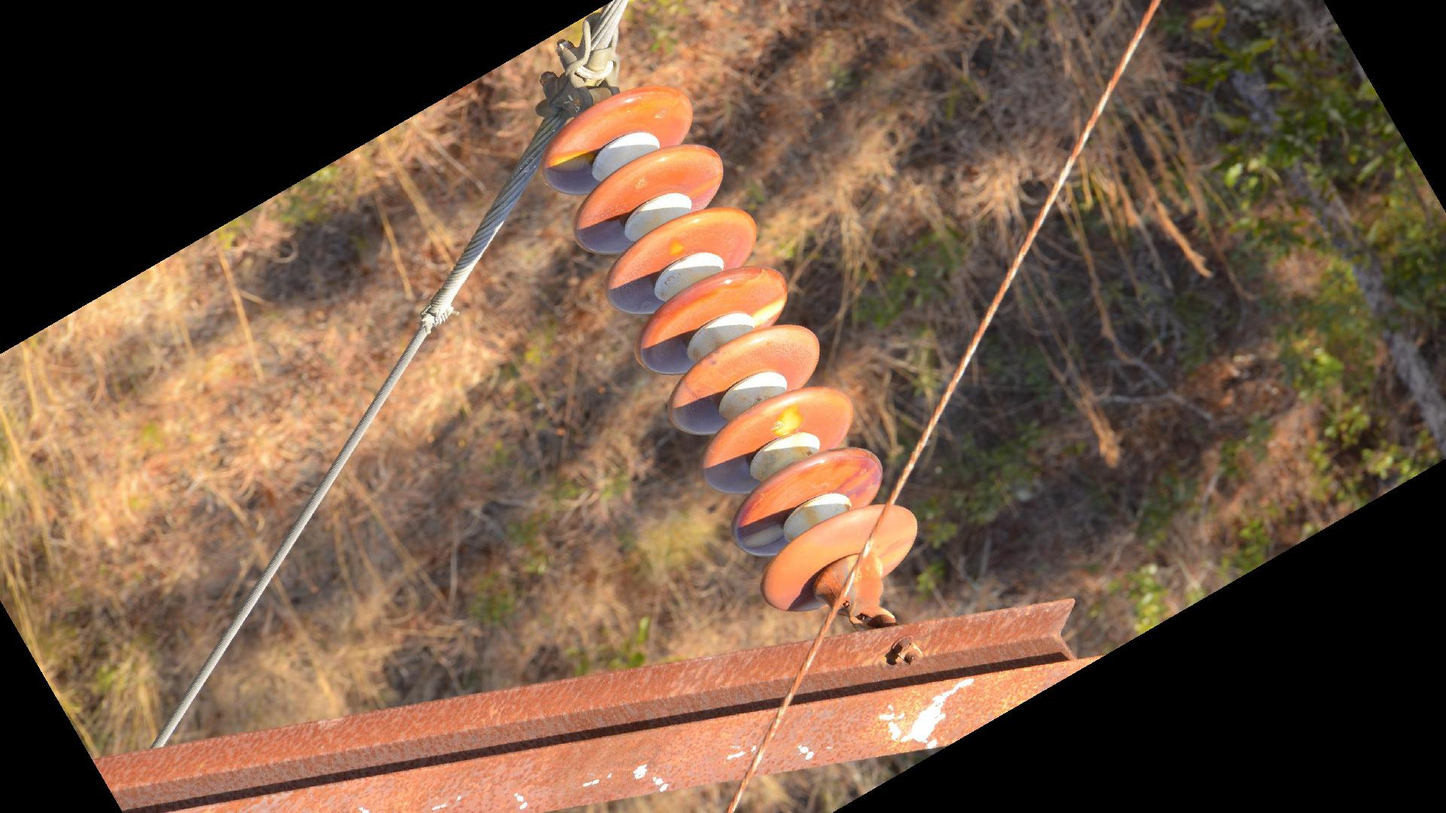insulator: (538, 82, 926, 620)
insulator_flashover: (545, 147, 596, 175), (768, 402, 805, 439), (750, 294, 789, 326)
